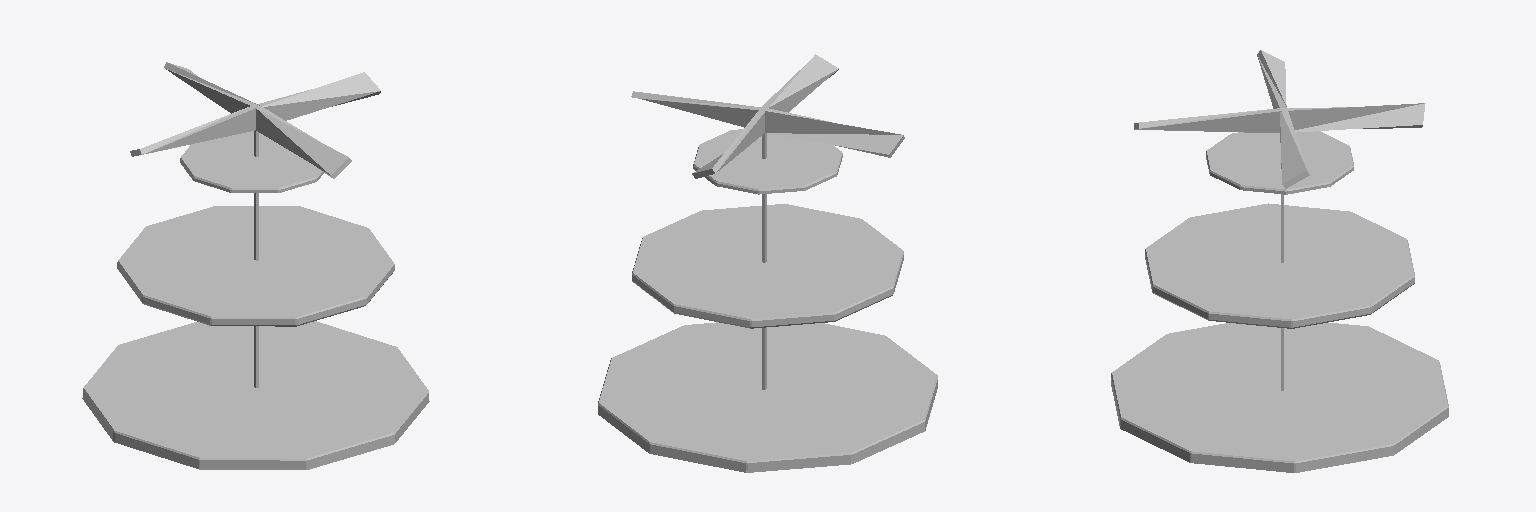
The model's file is Kreisel.obj.
The picture shows the model from 3 angles: view 1: azimuth 30°, elevation 25°; view 2: azimuth 150°, elevation 25°; view 3: azimuth 270°, elevation 25°; orthographic projection.
Bounding box in the file's own units: 0.6695 × 0.6312 × 0.6547.